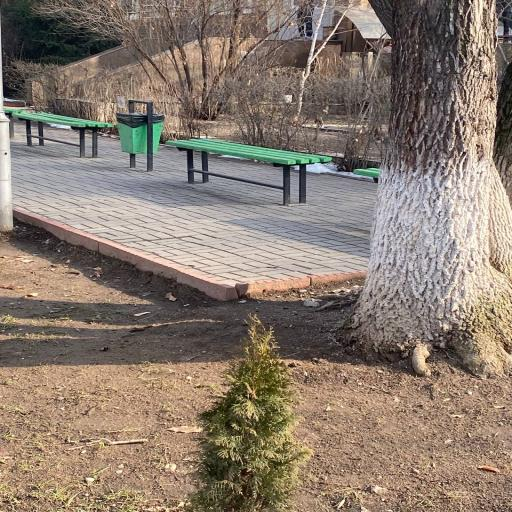traffic_light: (117, 114, 147, 153)
trash_bin: (166, 139, 331, 205), (6, 110, 113, 157), (354, 168, 379, 182)
